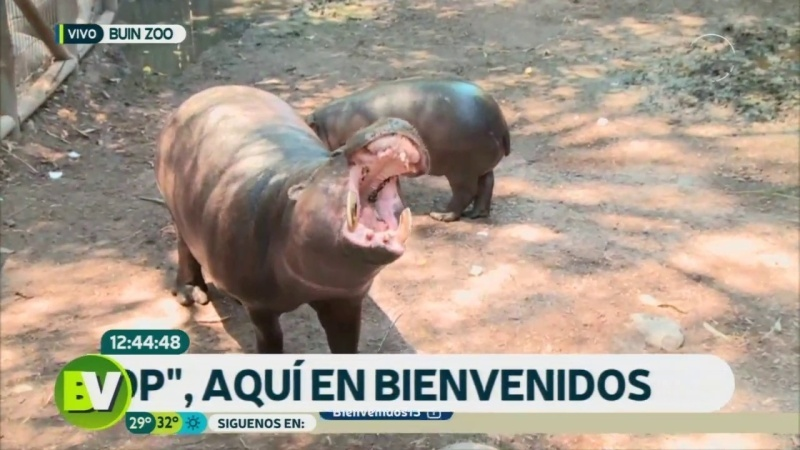hipopotamo: (139, 75, 438, 353), (302, 73, 533, 236)
